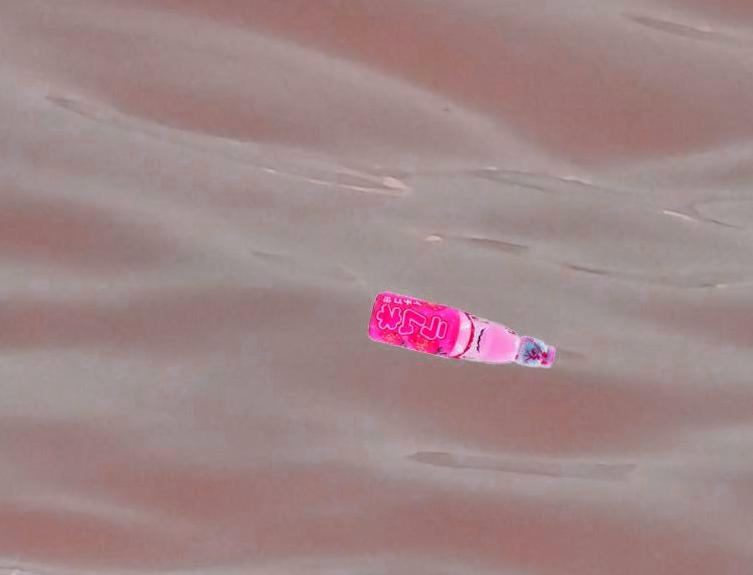Plastic: (368, 287, 561, 374)
